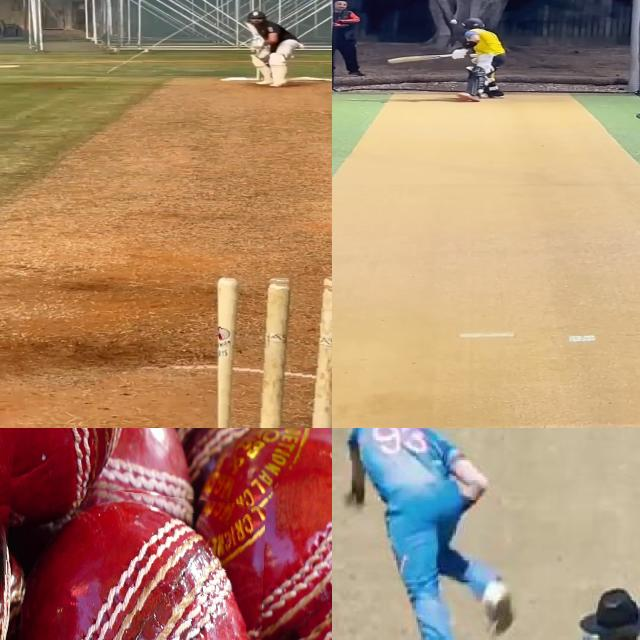Cricket ball: (21, 480, 266, 640), (450, 19, 458, 24)
Stumps: (219, 275, 332, 428)
